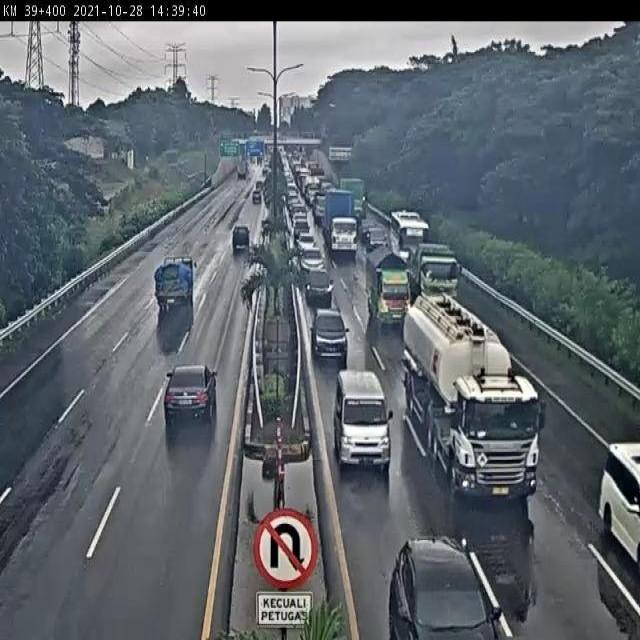big bus: (389, 212, 429, 265)
big truck: (400, 294, 541, 502)
car: (388, 534, 504, 640), (333, 372, 392, 471), (163, 367, 217, 425), (308, 308, 354, 359), (305, 269, 336, 304), (301, 248, 326, 277), (362, 227, 389, 249), (231, 224, 252, 251)
mid truck: (409, 246, 463, 302)
small truck: (153, 259, 196, 308)
truck-m-: (364, 248, 412, 319)
